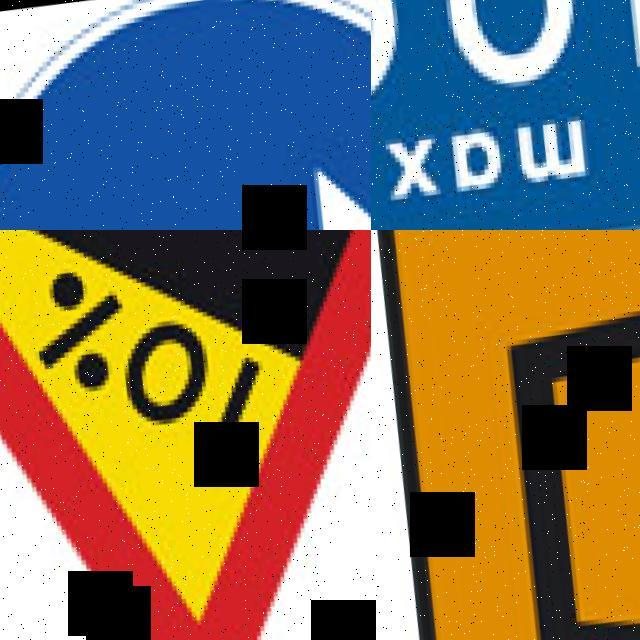102: (371, 0, 640, 230)
84: (371, 230, 640, 640)
Direction to be followed: (0, 0, 371, 230)
Steep downhill: (0, 230, 371, 640)
